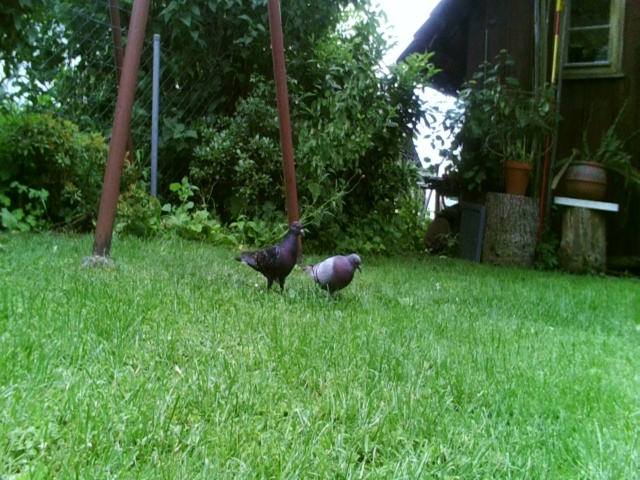Pigeon: (236, 218, 307, 295), (305, 245, 370, 300)
